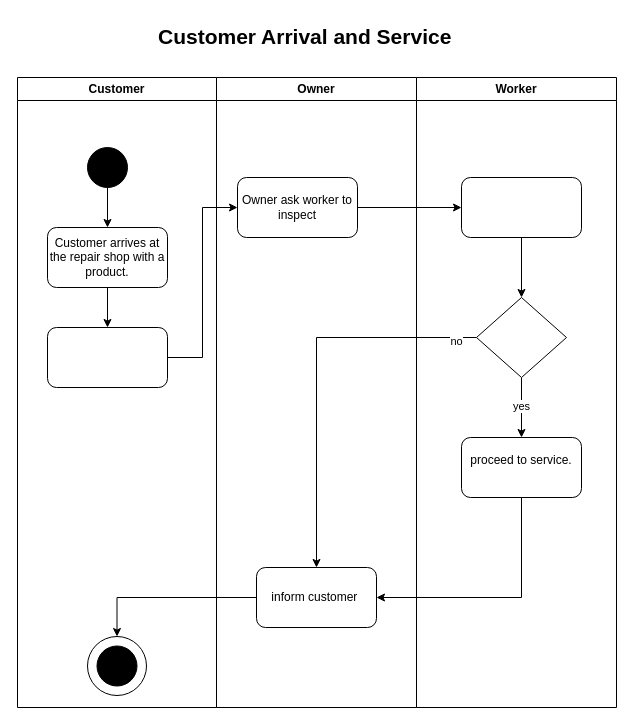
Image size: 634x725. Some labels were removed from this diagram. Here are the shapes that lost their labels. From the top down, the centre of each, then its label:
At point (521, 207): "Worker inspects the product.".
At point (107, 357): "Customer explains the issue to the Owner.".
At point (521, 337): "Is repair possible?".
